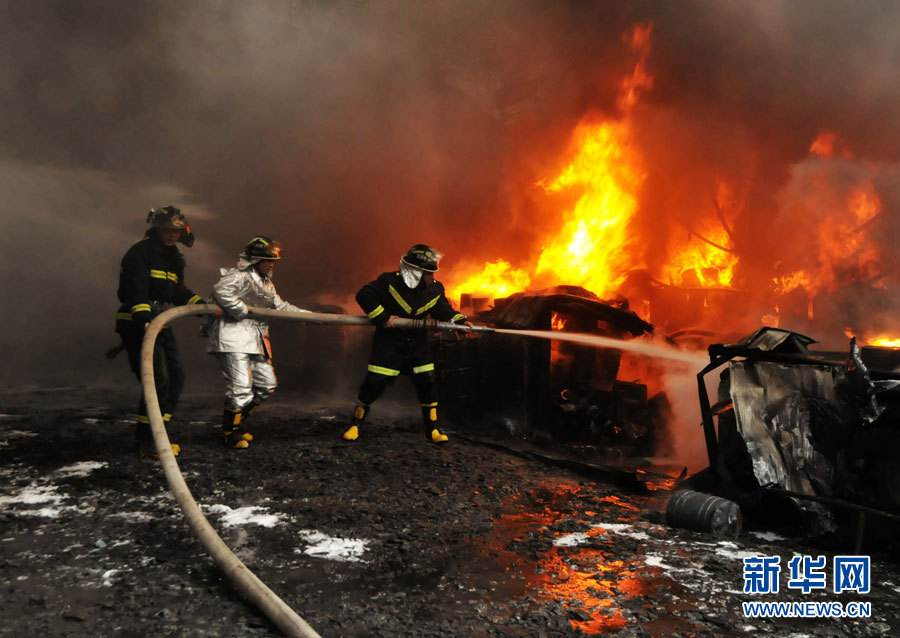fire: (465, 1, 668, 311), (660, 175, 765, 288)
